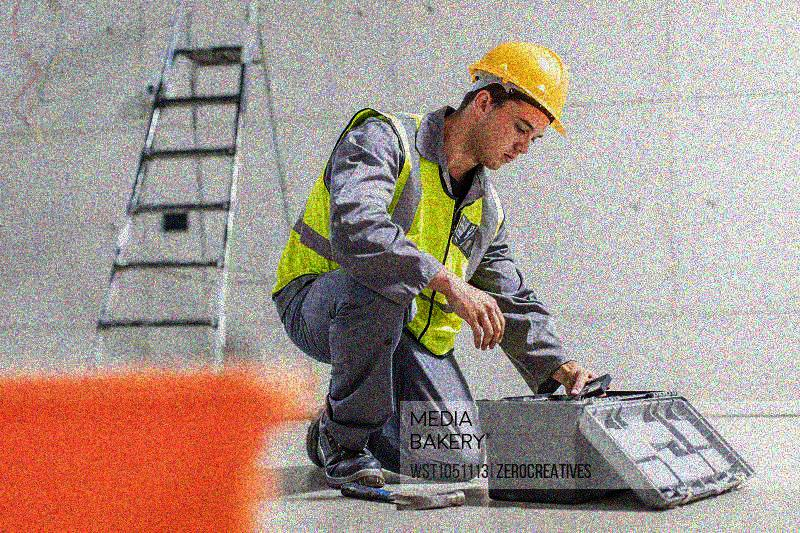helmet: (465, 41, 567, 171)
